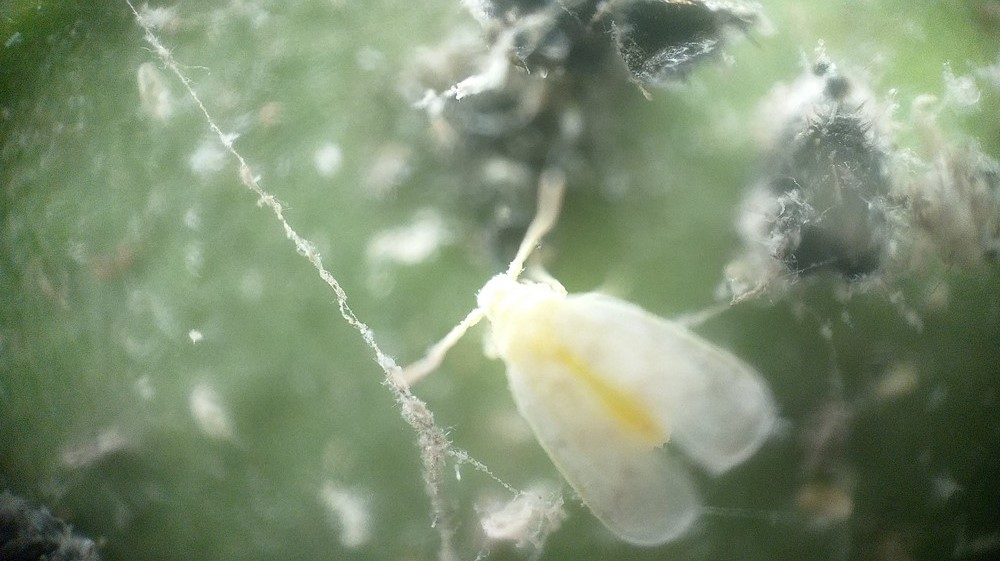Mosca Blanca: (381, 161, 795, 555)
